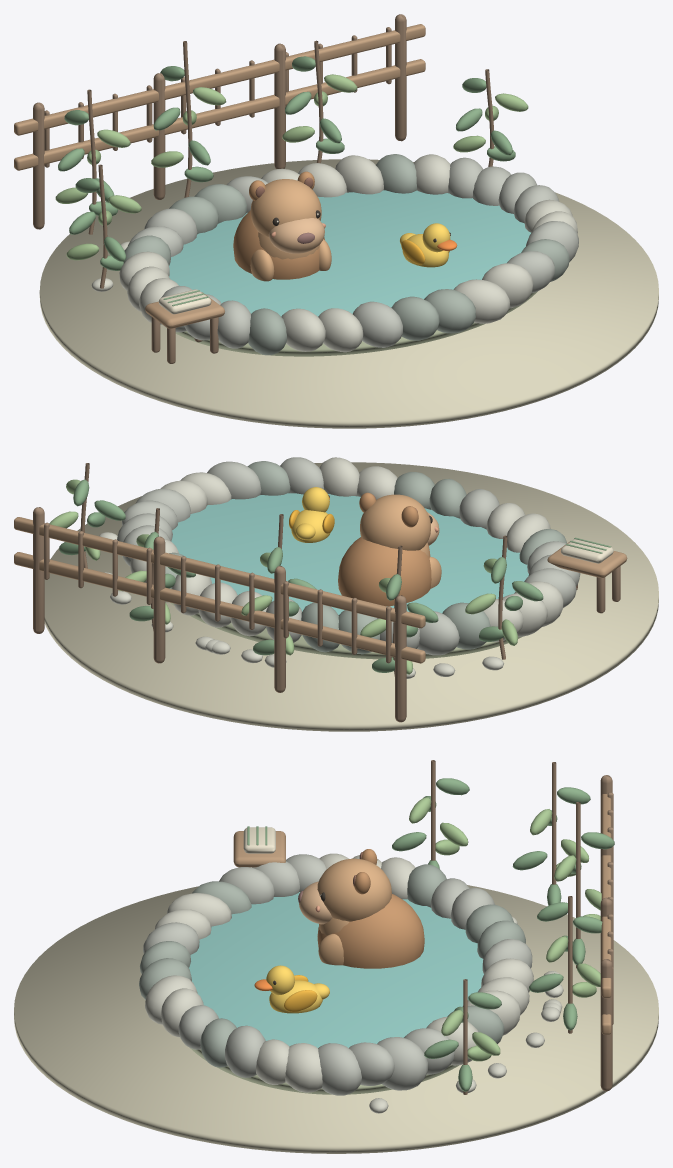
Rendered from duck-model.glb.
3 views of the same model, one above another, from view 1: azimuth 30°, elevation 25°; view 2: azimuth 150°, elevation 25°; view 3: azimuth 270°, elevation 25° (orthographic). The views are drawn at different scales.
Visible parts, largest first — view 1: GARDEN_BASE, STATIC_WATER, FenceRail.001, FenceRail, Head, Body, POOL_BOTTOM, RimStone_24, RimStone_26, RimStone_27, RimStone_25, RimStone_23 (+34 smaller); view 2: GARDEN_BASE, STATIC_WATER, FenceRail.001, FenceRail, Body, Head, POOL_BOTTOM, FencePost.002, FencePost, FencePost.003, RimStone_31, FencePost.001 (+36 smaller); view 3: GARDEN_BASE, STATIC_WATER, Body, Head, RimStone_00, RimStone_02, RimStone_33, RimStone_31, FenceRail.001, RimStone_01, FencePost.003, RimStone_20 (+35 smaller).
Boxes of the visible parts, box(x1,y1,x2,y2) form: GARDEN_BASE: box(39, 159, 658, 428); STATIC_WATER: box(169, 190, 530, 316); FenceRail.001: box(14, 24, 425, 135); FenceRail: box(14, 59, 425, 170); Head: box(250, 179, 321, 236); Body: box(233, 210, 324, 279); POOL_BOTTOM: box(162, 291, 537, 356); RimStone_24: box(353, 301, 402, 347); RimStone_26: box(424, 289, 475, 333); RimStone_27: box(453, 279, 510, 323); RimStone_25: box(391, 296, 439, 340); RimStone_23: box(318, 308, 363, 352); GARDEN_BASE: box(44, 462, 658, 731); STATIC_WATER: box(171, 493, 528, 614); FenceRail.001: box(14, 517, 425, 628); FenceRail: box(14, 552, 425, 663); Body: box(338, 537, 431, 606); Head: box(360, 494, 430, 550); POOL_BOTTOM: box(170, 602, 521, 659); FencePost.002: box(153, 536, 165, 663); FencePost: box(395, 595, 406, 722); FencePost.003: box(33, 507, 44, 633); RimStone_31: box(207, 461, 261, 499); FencePost.001: box(274, 566, 285, 692); GARDEN_BASE: box(14, 885, 658, 1153); STATIC_WATER: box(189, 892, 483, 1047); Body: box(317, 894, 424, 968); Head: box(317, 858, 391, 921); RimStone_00: box(318, 1043, 361, 1095); RimStone_02: box(377, 1037, 427, 1090); RimStone_33: box(285, 1043, 322, 1092); RimStone_31: box(225, 1025, 265, 1077); FenceRail.001: box(601, 794, 611, 998); RimStone_01: box(349, 1042, 394, 1085); FencePost.003: box(600, 959, 612, 1091); RimStone_20: box(219, 867, 274, 904).
Bounding box in the file's own units: 8 × 2.61 × 8.
